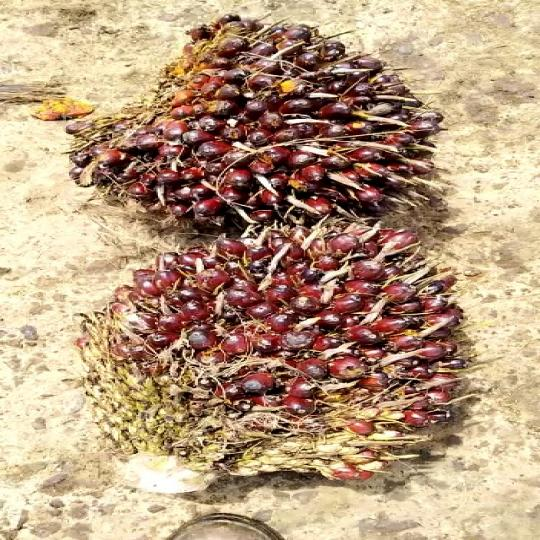kurang masak: (78, 220, 492, 518), (62, 6, 469, 234)
